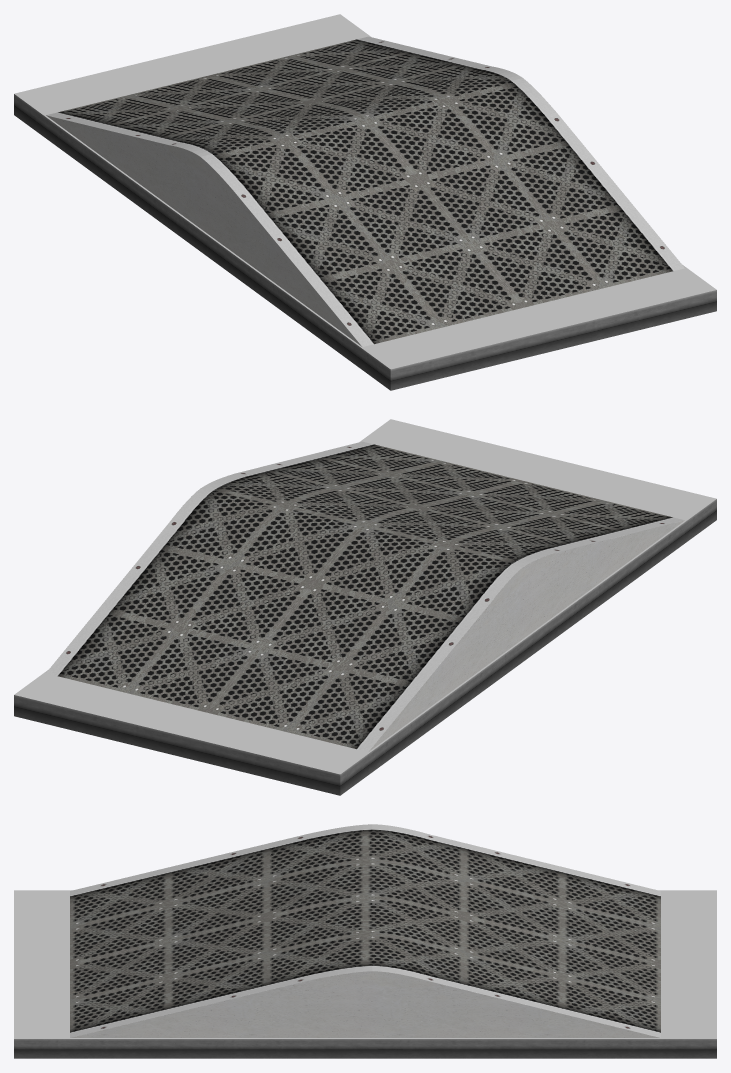
The model's file is Ramps04.fbx.
3 views of the same model, one above another, from view 1: azimuth 30°, elevation 25°; view 2: azimuth 150°, elevation 25°; view 3: azimuth 270°, elevation 25° (orthographic). The views are drawn at different scales.
Visible parts, largest first — view 1: Empty_Mesh; view 2: Empty_Mesh; view 3: Empty_Mesh.
Part boxes in pixels (left/top/right/bottom): Empty_Mesh: left=14, top=14, right=716, bottom=390; Empty_Mesh: left=14, top=419, right=716, bottom=795; Empty_Mesh: left=14, top=824, right=716, bottom=1058.
Size of the model in its own units: 1600 by 436 by 3200.
